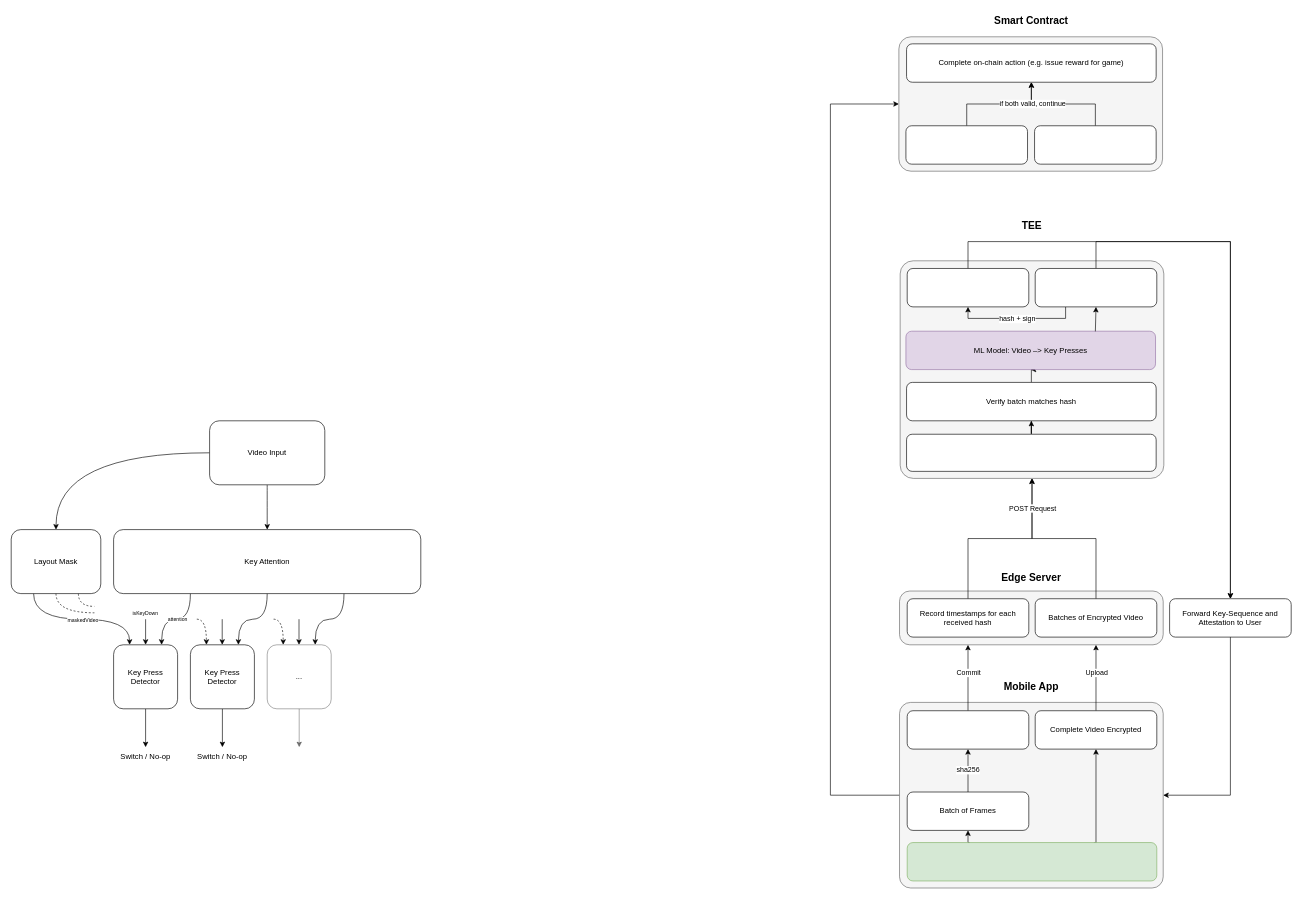
Some shapes in this 1302 by 899 pixel diagram are drawn without their labels. Here are the shapes that lost their labels. From the top down, the centre of each, then its label:
At [966,144]: "Verify submitted hash matches hash of game actions".
At [1095,144]: "Verify aggregate signature was created by TEE".
At [968,287]: "BLS Singature on Hash of Key-Actions".
At [1096,287]: "Map: Timestamp -> Key-Action".
At [1031,452]: "Decrypt Video Batch".
At [968,729]: "Hash".
At [1032,861]: "Video Feed".
